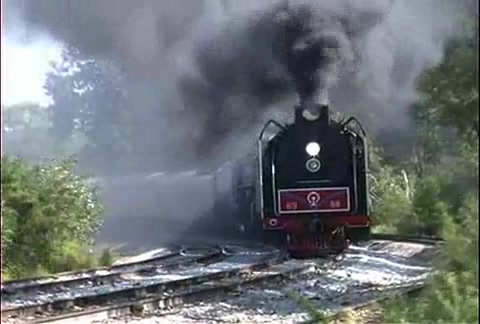train: (93, 102, 374, 259)
